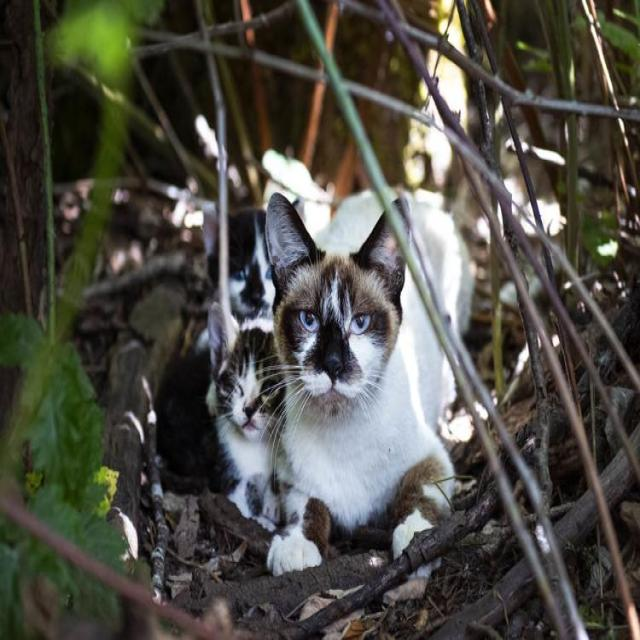cat: (266, 191, 454, 576), (156, 292, 289, 531), (400, 197, 472, 333), (229, 210, 275, 322), (208, 244, 219, 282)
